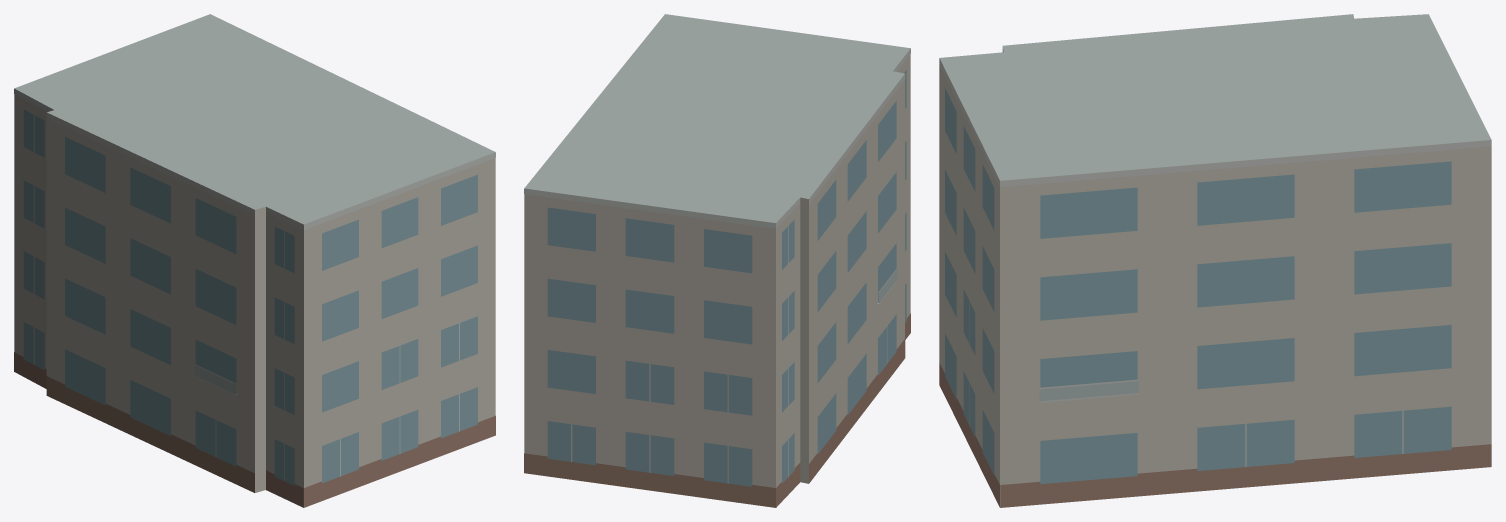
The model's file is survey-upis-32945223.glb.
The picture shows the model from 3 angles, left to right: view 1: azimuth 30°, elevation 25°; view 2: azimuth 150°, elevation 25°; view 3: azimuth 270°, elevation 25°; orthographic projection. The views are drawn at different scales.
Visible parts, largest first — view 1: survey-upis-32945223.tmp; view 2: survey-upis-32945223.tmp; view 3: survey-upis-32945223.tmp.
Part boxes in pixels (x1,y1,x2,y2): survey-upis-32945223.tmp: (14, 14, 495, 507); survey-upis-32945223.tmp: (524, 14, 910, 507); survey-upis-32945223.tmp: (939, 14, 1491, 507).
Bounding box in the file's own units: 13.36 × 12.2 × 18.68.
